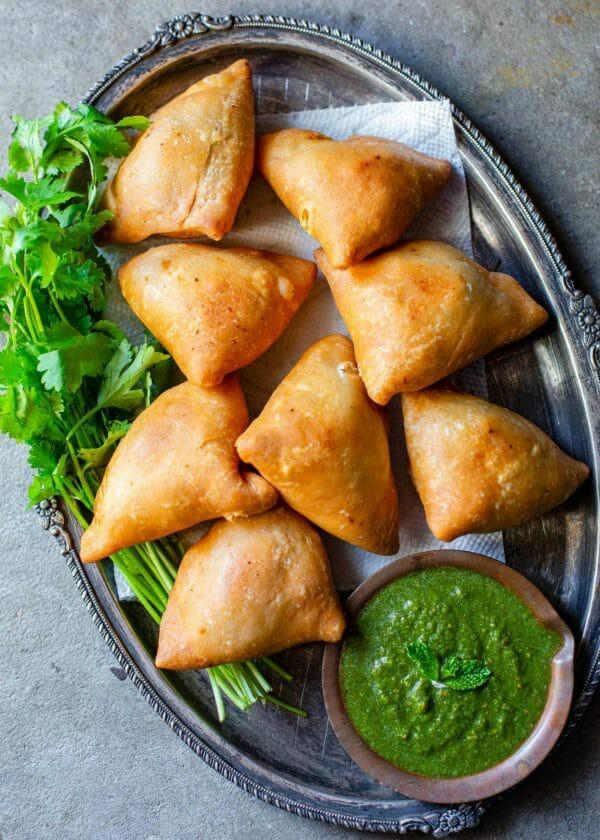Samosa: (236, 336, 409, 553), (326, 240, 543, 405), (90, 383, 274, 561), (397, 385, 591, 545), (149, 515, 352, 667), (115, 241, 320, 384), (99, 55, 257, 239), (256, 132, 459, 257)
